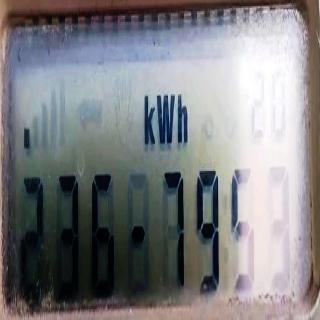-: (131, 222, 145, 246), (23, 126, 30, 149)
2: (17, 171, 45, 308)
3: (266, 155, 294, 298), (56, 168, 80, 304)
5: (229, 159, 257, 300)
6: (87, 164, 117, 307)
7: (162, 166, 188, 293)
9: (195, 163, 221, 298)
